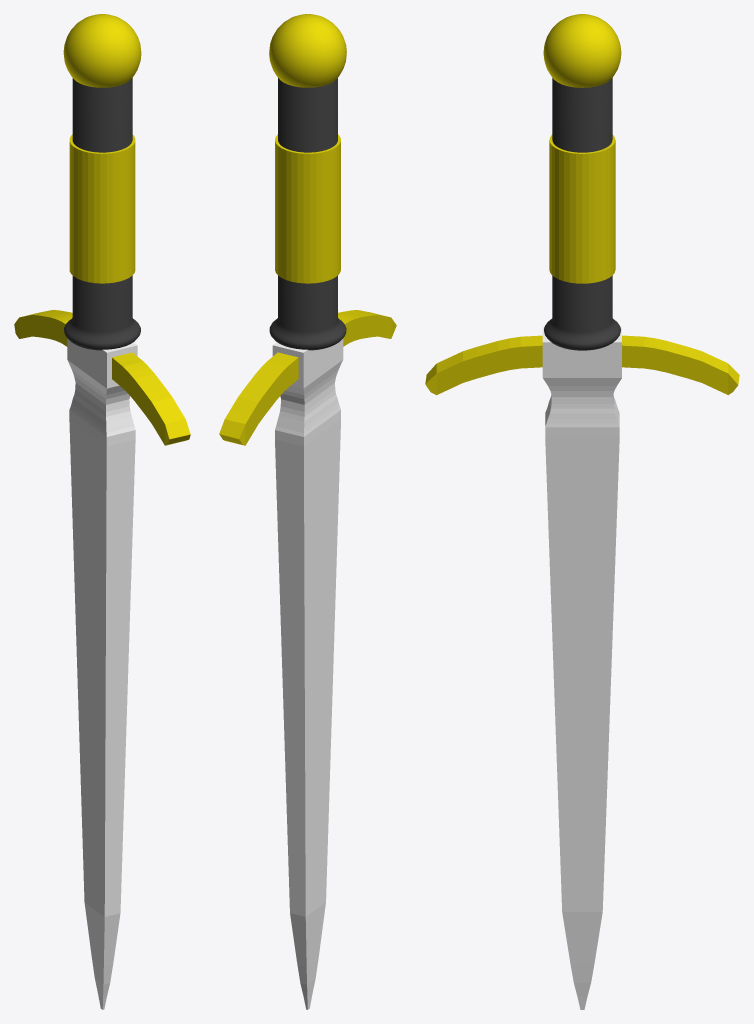
Rendered from espada.fbx.
3 renders of one model, left to right at view 1: azimuth 30°, elevation 25°; view 2: azimuth 150°, elevation 25°; view 3: azimuth 270°, elevation 25°, orthographic.
Parts seen in each view (by area): view 1: Cube, Cylinder.001, Cylinder, Cube.001, Sphere; view 2: Cube, Cylinder.001, Cylinder, Cube.001, Sphere; view 3: Cube, Cylinder.001, Cylinder, Cube.001, Sphere.
Boxes of the visible parts, x1,y1,x2,y2 form: Cube: (67, 338, 137, 1009); Cylinder.001: (69, 134, 135, 283); Cylinder: (64, 78, 140, 350); Cube.001: (14, 310, 190, 445); Sphere: (63, 14, 141, 87); Cube: (272, 338, 343, 1009); Cylinder.001: (275, 134, 340, 283); Cylinder: (269, 78, 346, 350); Cube.001: (219, 310, 396, 445); Sphere: (269, 14, 346, 87); Cube: (542, 327, 621, 1009); Cylinder.001: (549, 134, 615, 283); Cylinder: (544, 78, 620, 350); Cube.001: (425, 335, 739, 395); Sphere: (543, 14, 621, 87).
Size of the model in its own units: 31.76 by 446 by 128.
